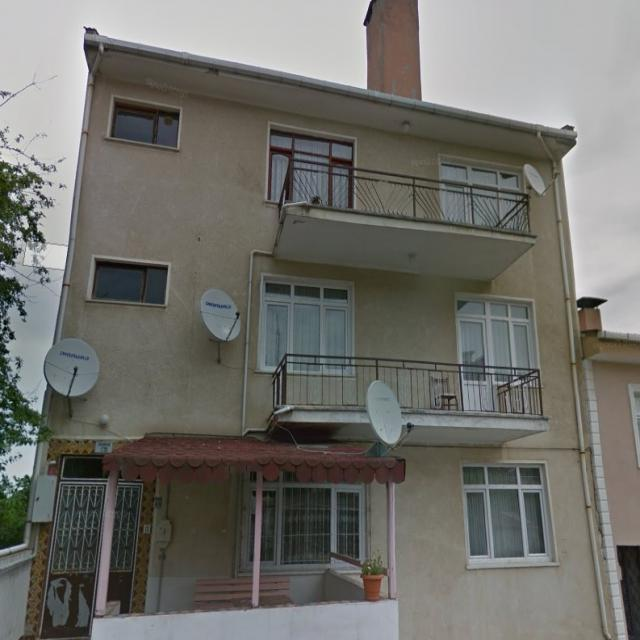Building: (20, 28, 617, 639)
